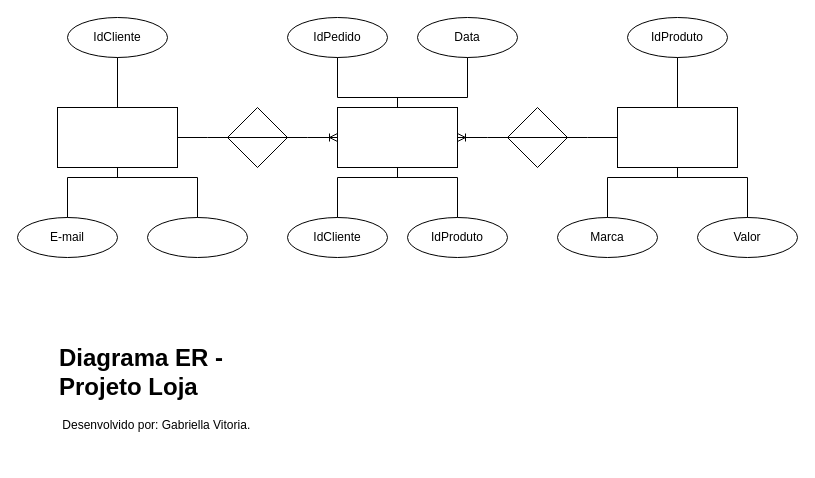
The diagram is 815 pixels wide and 478 high, and some of its shapes have lost their labels. Here are the shapes that lost their labels. From the top down, the centre of each, then its label:
At (117,137): "CLIENTES".
At (397,137): "PEDIDOS".
At (677,137): "PRODUTOS".
At (197,237): "Nome".
